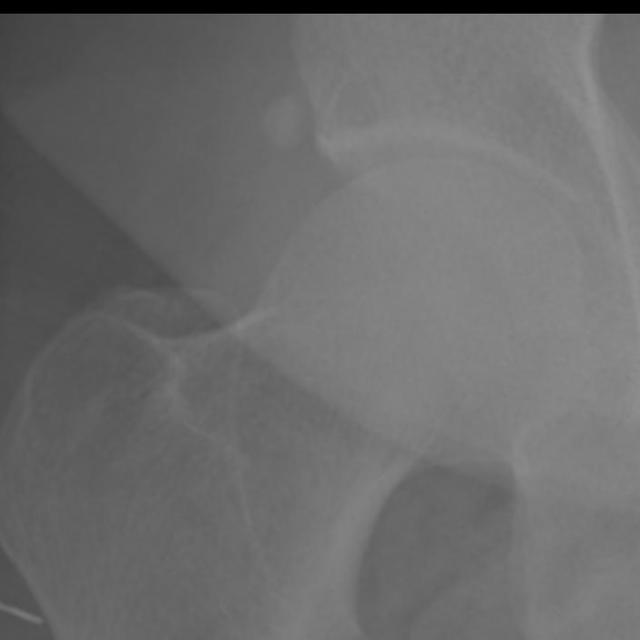Fitted_femural_head: (326, 161, 432, 326)
